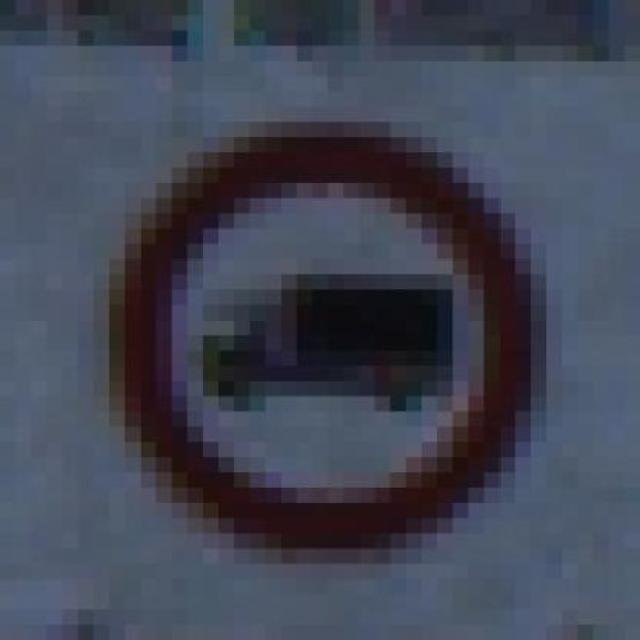Truck traffic is prohibited: (93, 122, 562, 549)
